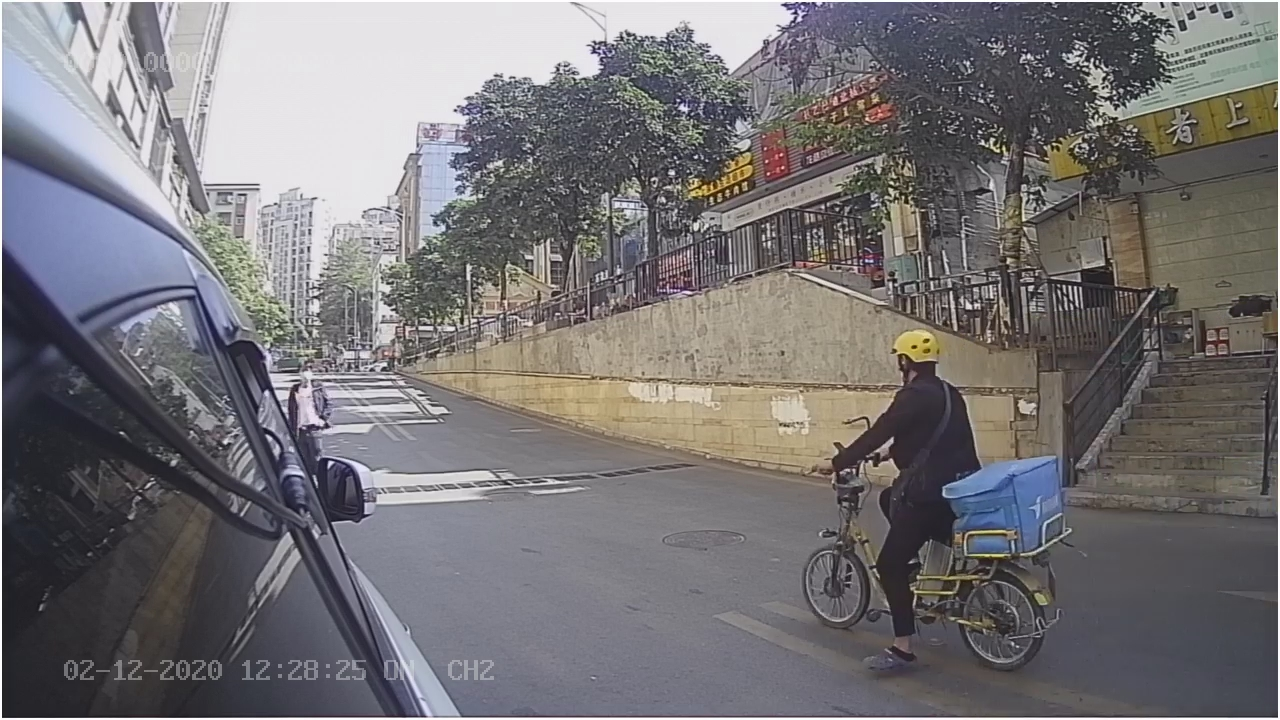person: (813, 320, 978, 474)
